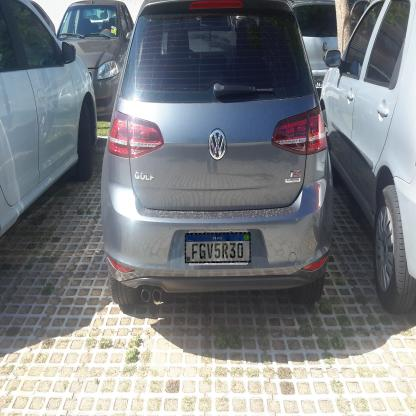PlacaM: (184, 232, 250, 264)
